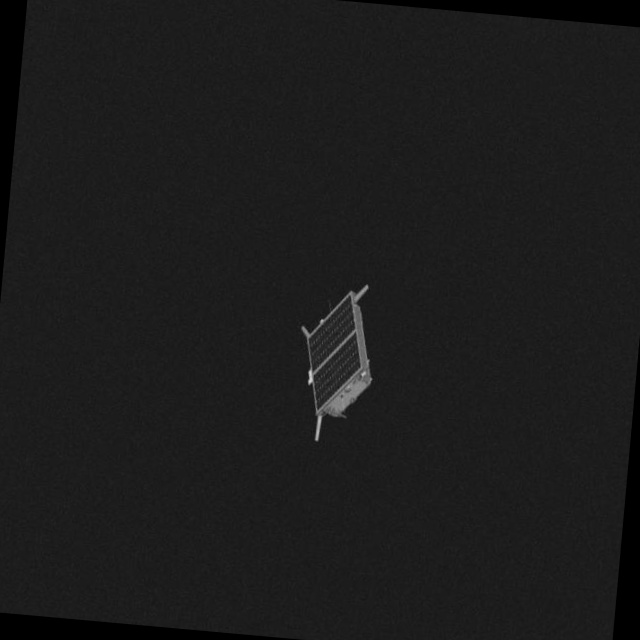medium_debris: (289, 278, 397, 454)
